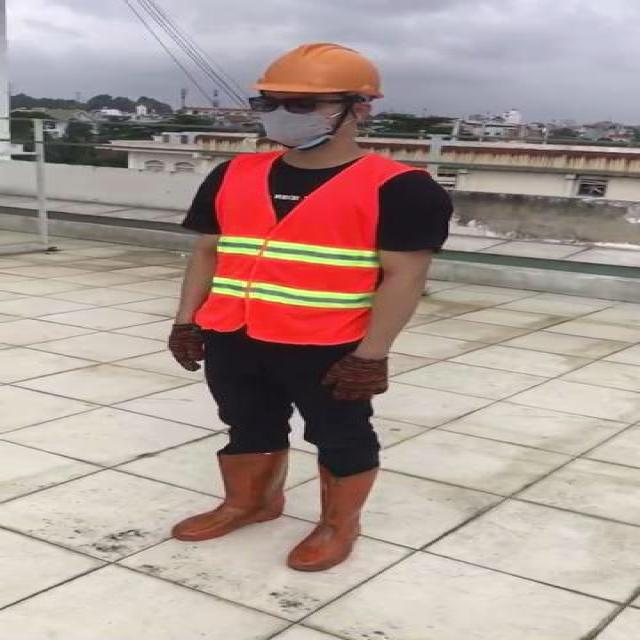boots: (170, 447, 292, 541), (286, 465, 379, 571)
face_mask: (246, 91, 346, 145)
glasses: (242, 90, 330, 119)
hand_glove: (320, 355, 389, 405), (169, 321, 203, 370)
head_helmet: (245, 40, 393, 100)
person: (152, 41, 463, 578)
vest: (199, 149, 381, 345)
